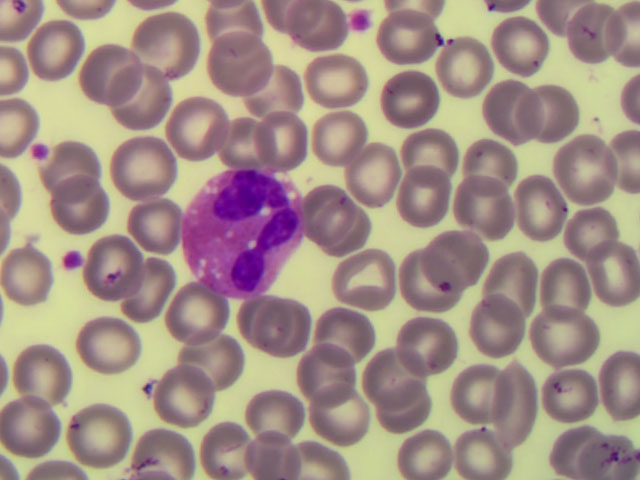Platelets: (58, 242, 86, 277), (347, 9, 377, 38), (31, 140, 50, 160)
RBC: (254, 415, 311, 480), (184, 415, 241, 480), (135, 415, 192, 480), (403, 415, 460, 480), (449, 415, 506, 480), (578, 415, 635, 480), (28, 19, 88, 80), (84, 43, 141, 107), (112, 69, 169, 133), (141, 12, 198, 76), (166, 96, 223, 160), (114, 130, 171, 194), (51, 172, 108, 236), (50, 130, 107, 194), (79, 232, 136, 296), (117, 254, 174, 318), (126, 192, 183, 256), (211, 108, 268, 172), (250, 98, 307, 162), (254, 62, 311, 126), (211, 26, 268, 90), (303, 37, 360, 101), (383, 8, 440, 72), (383, 68, 440, 132), (304, 102, 361, 166), (336, 136, 393, 200), (301, 181, 358, 245), (331, 240, 388, 304), (310, 294, 367, 358), (291, 342, 348, 406), (323, 385, 380, 449), (255, 385, 312, 449), (73, 402, 130, 466), (6, 398, 63, 462), (15, 327, 72, 391), (75, 313, 132, 377), (153, 369, 210, 433), (182, 329, 239, 393), (167, 289, 224, 353), (259, 292, 316, 356), (405, 317, 462, 381), (371, 327, 428, 391), (370, 384, 427, 448), (486, 371, 543, 435), (461, 362, 518, 426), (463, 293, 520, 357), (476, 249, 533, 313), (417, 222, 474, 286), (407, 243, 464, 307), (404, 167, 461, 231), (399, 124, 456, 188), (463, 127, 520, 191), (459, 178, 516, 242), (481, 81, 538, 145), (518, 74, 575, 138), (444, 37, 501, 101), (487, 14, 544, 78), (562, 141, 619, 205), (515, 175, 572, 239), (583, 252, 640, 316), (535, 254, 592, 318), (535, 305, 592, 369), (541, 366, 598, 430), (583, 349, 640, 413), (567, 195, 624, 259), (558, 9, 615, 73), (215, 1, 272, 64), (279, 1, 336, 64), (1, 242, 57, 306)
WBC: (184, 172, 305, 292)
